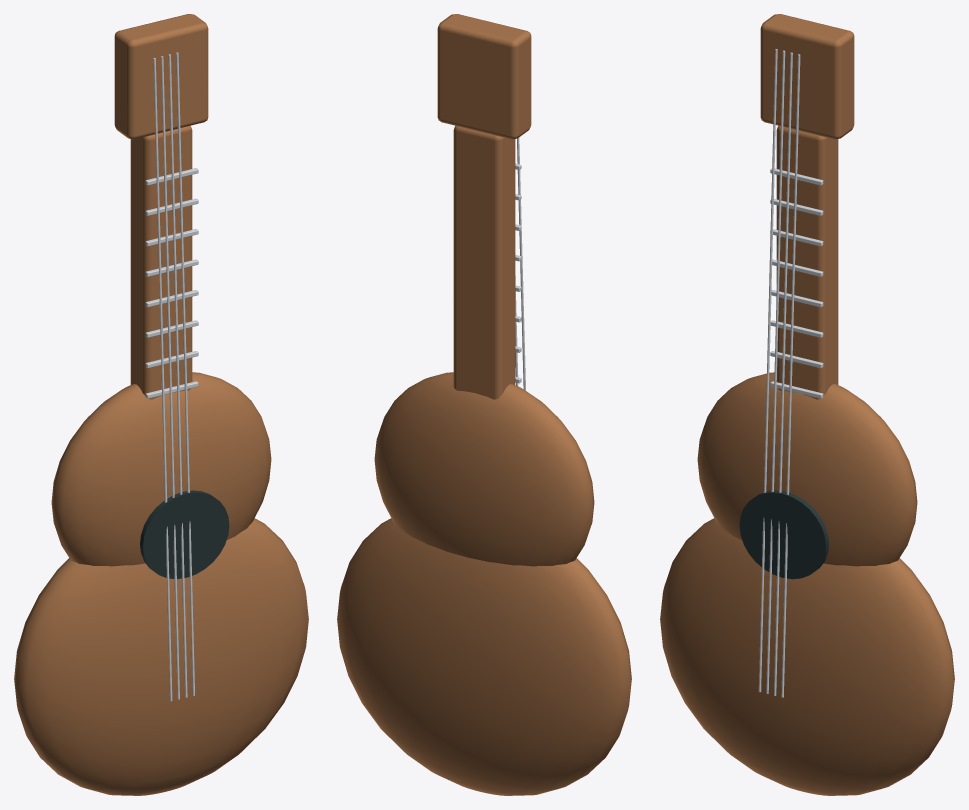
File: wp-ukulele.glb
3 views of the same model, side by side, from view 1: azimuth 30°, elevation 25°; view 2: azimuth 150°, elevation 25°; view 3: azimuth 330°, elevation 25° (orthographic).
Visible parts, largest first — view 1: wp-ukulele; view 2: wp-ukulele; view 3: wp-ukulele.
Part boxes in pixels (x1,y1,x2,y2): wp-ukulele: (14, 14, 308, 795); wp-ukulele: (337, 14, 631, 795); wp-ukulele: (660, 14, 954, 795).
Size of the model in its own units: 0.22 by 0.55 by 0.07.
